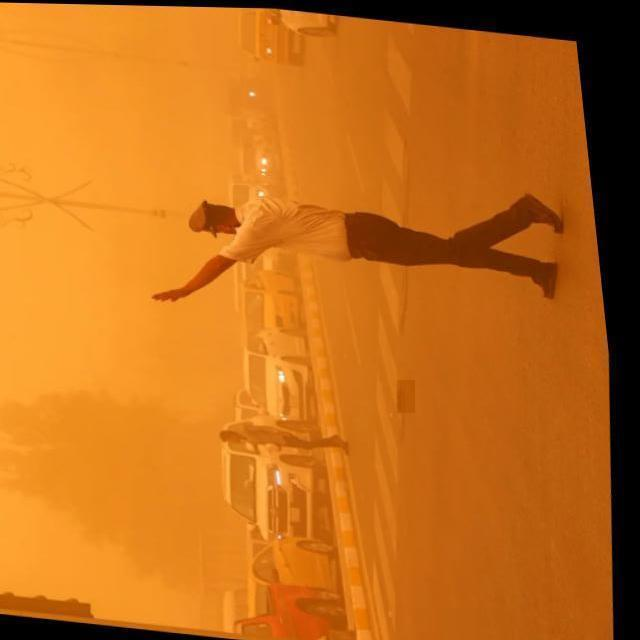Pothole: (397, 380, 415, 413)
